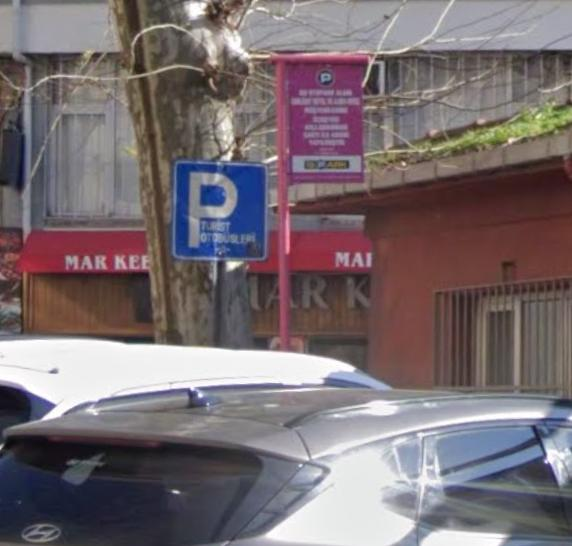park: (182, 166, 257, 253)
